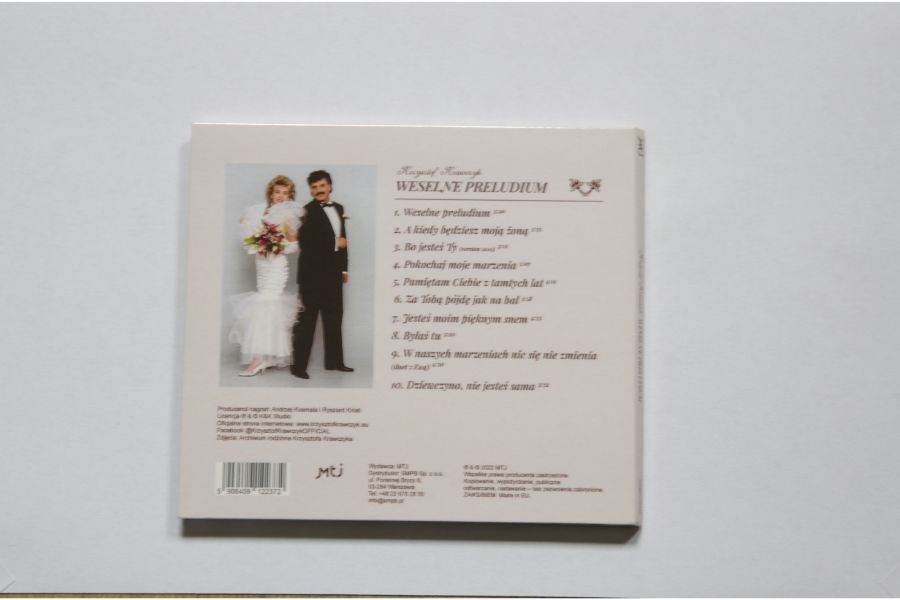album: (177, 122, 643, 530)
